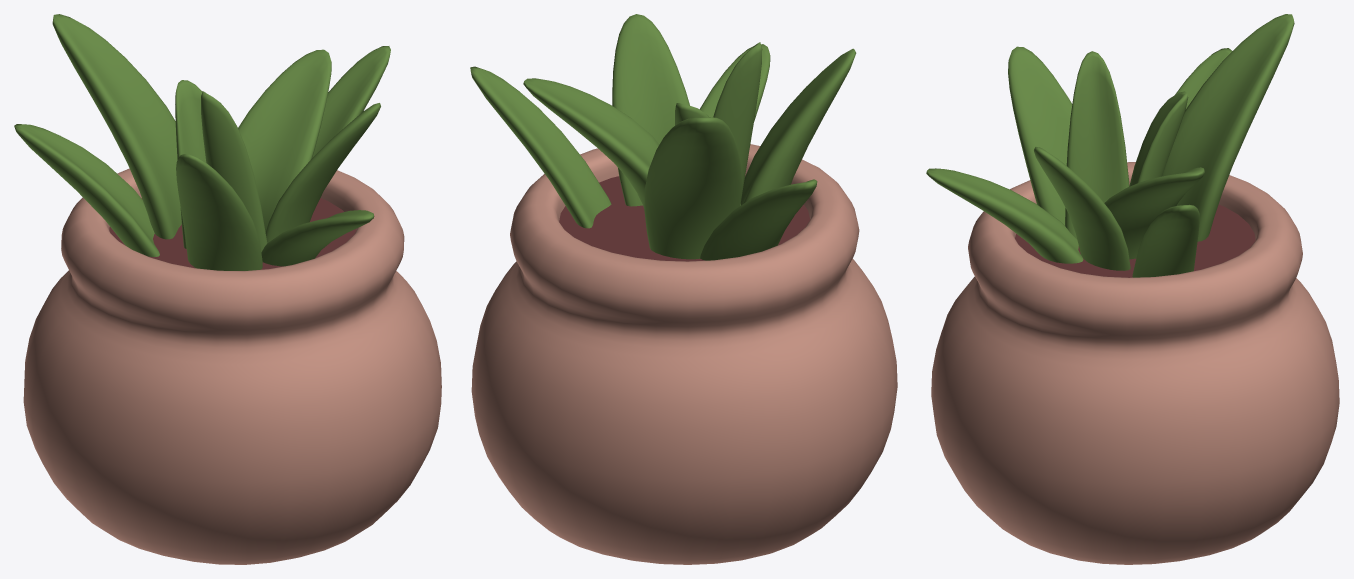
The picture shows the model from 3 angles, left to right: view 1: azimuth 30°, elevation 25°; view 2: azimuth 150°, elevation 25°; view 3: azimuth 270°, elevation 25°; orthographic projection. The views are drawn at different scales.
Visible parts, largest first — view 1: Plant Base, Cube 6 (×4), Cube 2, Cube 4, Cube 3, Cube 5, Cube, Ellipse 3; view 2: Plant Base, Cube 6 (×3), Cube 2, Cube 3, Cube, Cube 4, Ellipse 3, Cube 5; view 3: Plant Base, Cube 6 (×4), Cube 2, Cube 5, Cube 3, Cube, Ellipse 3, Cube 4.
Part boxes in pixels (box(x1,y1,x2,y2)): Plant Base: box(23, 168, 441, 564); Cube 6 (×4): box(175, 49, 374, 270); Cube 2: box(52, 14, 181, 239); Cube 4: box(14, 124, 159, 257); Cube 3: box(265, 103, 380, 242); Cube 5: box(201, 91, 267, 252); Cube: box(312, 46, 390, 157); Ellipse 3: box(109, 198, 356, 269); Plant Base: box(471, 144, 897, 564); Cube 6 (×3): box(523, 44, 856, 208); Cube 2: box(644, 117, 741, 259); Cube 3: box(612, 14, 689, 206); Cube: box(470, 66, 611, 228); Cube 4: box(700, 179, 817, 260); Ellipse 3: box(559, 175, 810, 261); Cube 5: box(713, 42, 762, 202); Plant Base: box(931, 162, 1339, 564); Cube 6 (×4): box(926, 46, 1204, 263); Cube 2: box(1162, 14, 1294, 241); Cube 5: box(1065, 51, 1129, 239); Cube 3: box(1034, 147, 1130, 270); Cube: box(1132, 204, 1199, 277); Ellipse 3: box(1015, 204, 1255, 277); Cube 4: box(1175, 48, 1232, 108).
Size of the model in its own units: 0.613 by 0.7538 by 0.6214.
